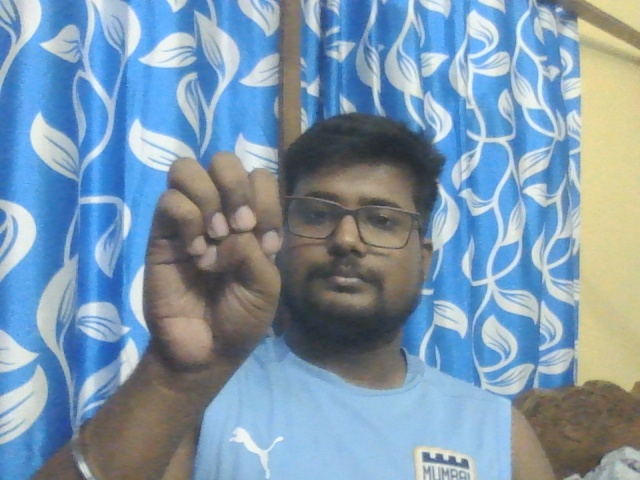E: (145, 151, 282, 366)
